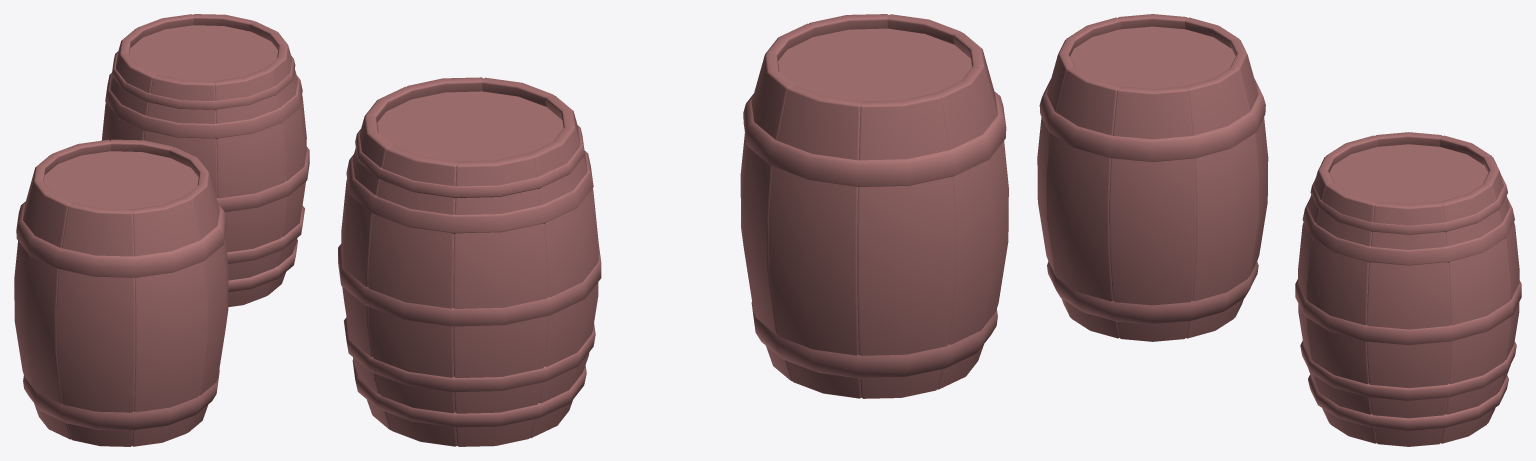
File: sm_barrel_low_poly.fbx
3 views of the same model, side by side, from view 1: azimuth 30°, elevation 25°; view 2: azimuth 150°, elevation 25°; view 3: azimuth 270°, elevation 25° (orthographic). The views are drawn at different scales.
Visible parts, largest first — view 1: polySurface424, polySurface430, polySurface444, polySurface423, polySurface432, polySurface448, polySurface376, polySurface426, polySurface445, polySurface442, polySurface422, polySurface406 (+13 smaller); view 2: polySurface425, polySurface428, polySurface449, polySurface443, polySurface423, polySurface432, polySurface448, polySurface441, polySurface376, polySurface427, polySurface446, polySurface422 (+13 smaller); view 3: polySurface429, polySurface450, polySurface426, polySurface427, polySurface446, polySurface442, polySurface432, polySurface448, polySurface376, polySurface422, polySurface403, polySurface406 (+13 smaller).
Part boxes in pixels (x1,y1,x2,y2): polySurface424: [56, 202, 135, 446]; polySurface430: [132, 196, 205, 446]; polySurface444: [214, 68, 285, 307]; polySurface423: [14, 180, 72, 439]; polySurface432: [43, 151, 198, 209]; polySurface448: [129, 25, 277, 80]; polySurface376: [16, 201, 226, 277]; polySurface426: [185, 171, 228, 432]; polySurface445: [144, 74, 217, 197]; polySurface442: [265, 44, 306, 295]; polySurface422: [23, 369, 219, 430]; polySurface406: [105, 73, 302, 139]; polySurface425: [857, 93, 955, 398]; polySurface428: [769, 85, 861, 398]; polySurface449: [453, 153, 547, 446]; polySurface443: [368, 145, 457, 446]; polySurface423: [936, 65, 1008, 389]; polySurface432: [778, 28, 971, 101]; polySurface448: [377, 91, 563, 161]; polySurface441: [529, 126, 598, 437]; polySurface376: [743, 91, 1006, 186]; polySurface427: [740, 54, 794, 381]; polySurface446: [341, 115, 393, 430]; polySurface422: [751, 302, 997, 378]; polySurface429: [1109, 86, 1196, 341]; polySurface450: [1367, 201, 1450, 446]; polySurface426: [1047, 67, 1119, 338]; polySurface427: [1185, 67, 1257, 338]; polySurface446: [1440, 183, 1509, 443]; polySurface442: [1307, 183, 1377, 443]; polySurface432: [1070, 26, 1235, 89]; polySurface448: [1329, 144, 1488, 204]; polySurface376: [1039, 79, 1265, 161]; polySurface422: [1047, 261, 1258, 324]; polySurface403: [1295, 279, 1521, 345]; polySurface406: [1302, 198, 1514, 265].
Size of the model in its own units: 130 by 75.75 by 131.
